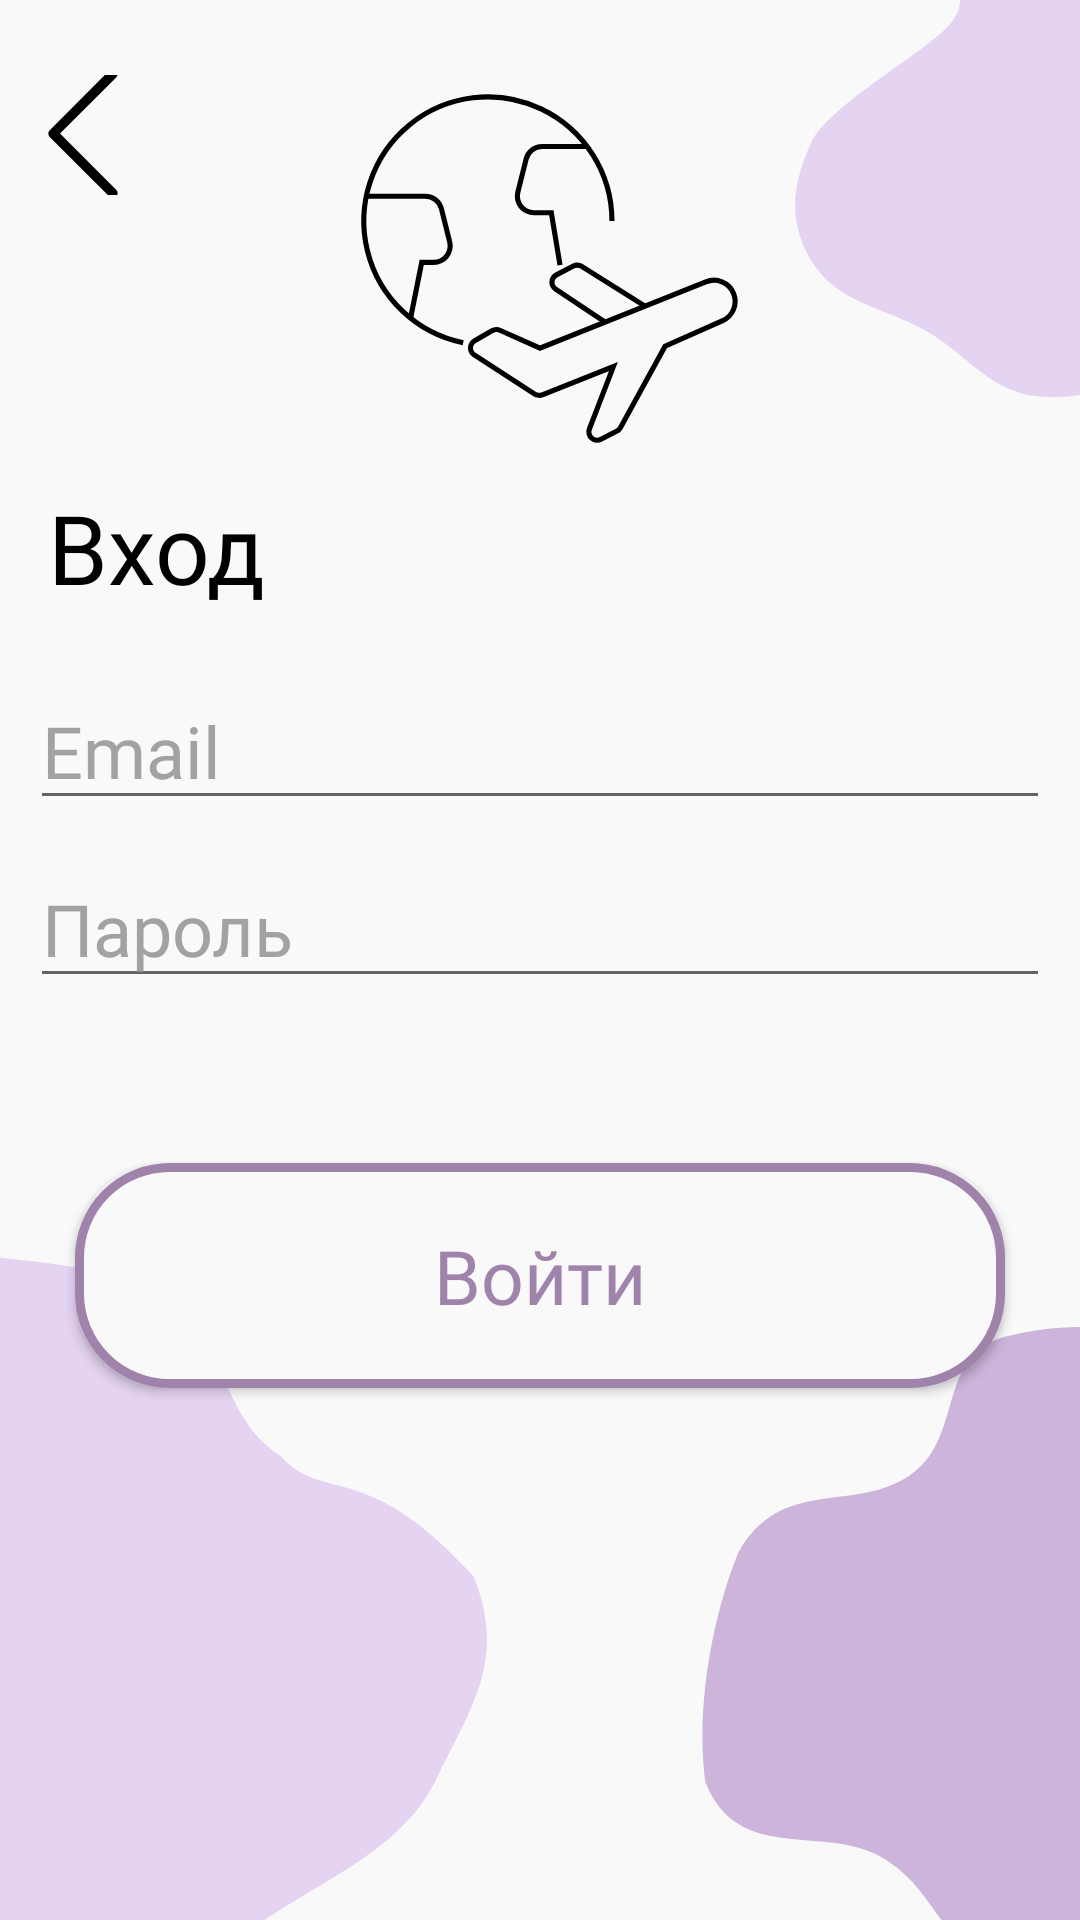

Icons on this 1080*1920 Android screen, each with its box as {"left": x1, "top": y1, "right": x2, "bottom": y2}:
back: {"left": 48, "top": 75, "right": 118, "bottom": 195}
